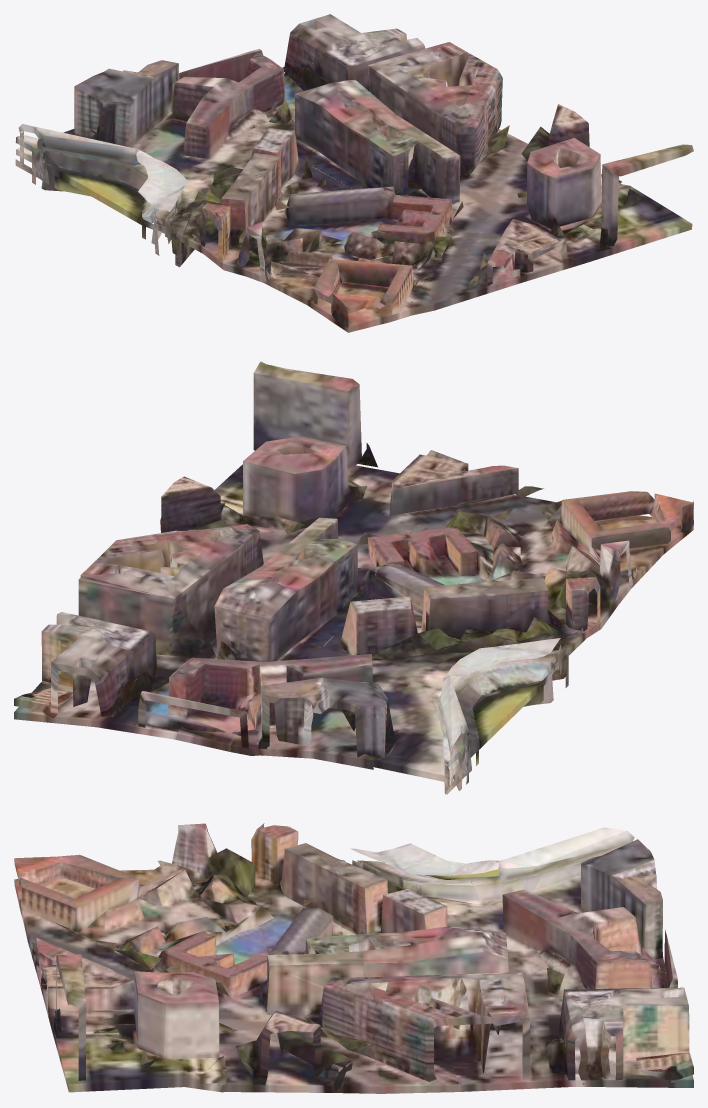
3 views of the same model, one above another, from view 1: azimuth 30°, elevation 25°; view 2: azimuth 150°, elevation 25°; view 3: azimuth 270°, elevation 25° (orthographic). The views are drawn at different scales.
Parts seen in each view (by area): view 1: Mesh_0; view 2: Mesh_0; view 3: Mesh_0.
Boxes of the visible parts, x1=… form: Mesh_0: x1=15, y1=14, x2=693, y2=332; Mesh_0: x1=14, y1=361, x2=693, y2=794; Mesh_0: x1=14, y1=823, x2=693, y2=1093.
Bounding box in the file's own units: 269 × 67.02 × 330.
2 materials, 2 textured.
